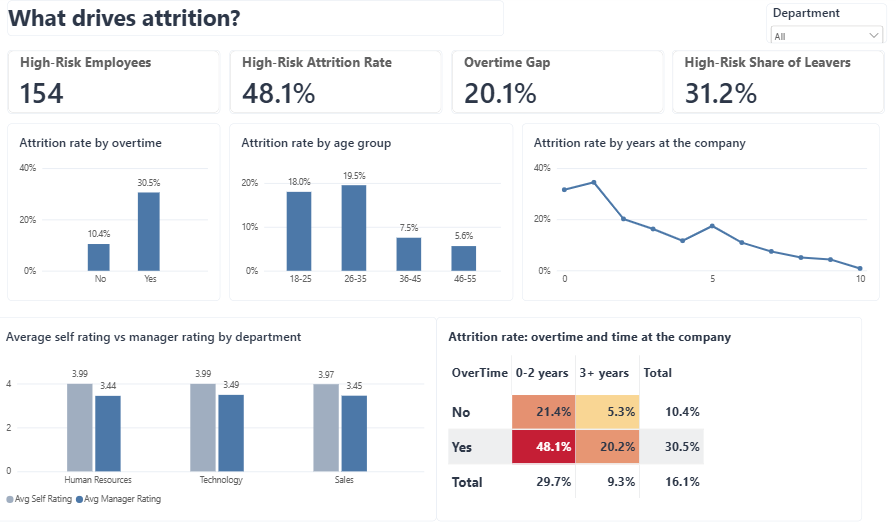

What the dashboard file says about the page in this screenshot:
{"tool":"powerbi","page":{"name":"Drivers","canvas":[1920,1080],"ordinal":1},"visuals":[{"type":"clusteredColumnChart","title":"Attrition rate by overtime","fields":{"Category":["Employee.OverTime"],"Y":["Employee.Attrition Rate"]},"box":[20,185,300,250],"z":0},{"type":"clusteredColumnChart","title":"Attrition rate by age group","fields":{"Category":["Employee.Age Group"],"Y":["Employee.Attrition Rate"]},"box":[332,185,400,250],"z":1000},{"type":"lineChart","title":"Attrition rate by years at the company","fields":{"Category":["Employee.YearsAtCompany"],"Y":["Employee.Attrition Rate"]},"box":[744,185,504,250],"z":2000},{"type":"pivotTable","title":"Attrition rate: overtime and time at the company","fields":{"Columns":["Employee.Tenure Band"],"Rows":["Employee.OverTime"],"Values":["Employee.Attrition Rate"]},"box":[624,456,600,288],"z":3000},{"type":"clusteredColumnChart","title":"Average self rating vs manager rating by department","fields":{"Category":["Employee.Department"],"Y":["Employee.Avg Self Rating","Employee.Avg Manager Rating"]},"box":[0,456,624,288],"z":4000},{"type":"cardVisual","fields":{"Data":["Employee.High-Risk Employees"]},"box":[20,80,300,90],"z":5000},{"type":"cardVisual","fields":{"Data":["Employee.High-Risk Share of Leavers"]},"box":[956,80,300,90],"z":6000},{"type":"slicer","fields":{"Values":["Employee.Department"]},"box":[1090,14,170,56],"z":7000},{"type":"textbox","box":[20,10,700,50],"z":10000},{"type":"cardVisual","fields":{"Data":["Employee.High-Risk Attrition Rate"]},"box":[332,80,300,90],"z":11000},{"type":"cardVisual","fields":{"Data":["Employee.Overtime Gap"]},"box":[644,80,300,90],"z":12000}]}

Visuals, with their boxes on the page's 1920x1080 design canvas (x1, y1, x2, y2). These are canvas units, not pixel positions in the 896x529 screenshot, which may show the page scaled, cropped or inside an application window:
"Attrition rate by overtime" clusteredColumnChart: x1=20, y1=185, x2=320, y2=435
"Attrition rate by age group" clusteredColumnChart: x1=332, y1=185, x2=732, y2=435
"Attrition rate by years at the company" lineChart: x1=744, y1=185, x2=1248, y2=435
"Attrition rate: overtime and time at the company" pivotTable: x1=624, y1=456, x2=1224, y2=744
"Average self rating vs manager rating by department" clusteredColumnChart: x1=0, y1=456, x2=624, y2=744
cardVisual - Employee.High-Risk Employees: x1=20, y1=80, x2=320, y2=170
cardVisual - Employee.High-Risk Share of Leavers: x1=956, y1=80, x2=1256, y2=170
slicer - Employee.Department: x1=1090, y1=14, x2=1260, y2=70
textbox: x1=20, y1=10, x2=720, y2=60
cardVisual - Employee.High-Risk Attrition Rate: x1=332, y1=80, x2=632, y2=170
cardVisual - Employee.Overtime Gap: x1=644, y1=80, x2=944, y2=170
